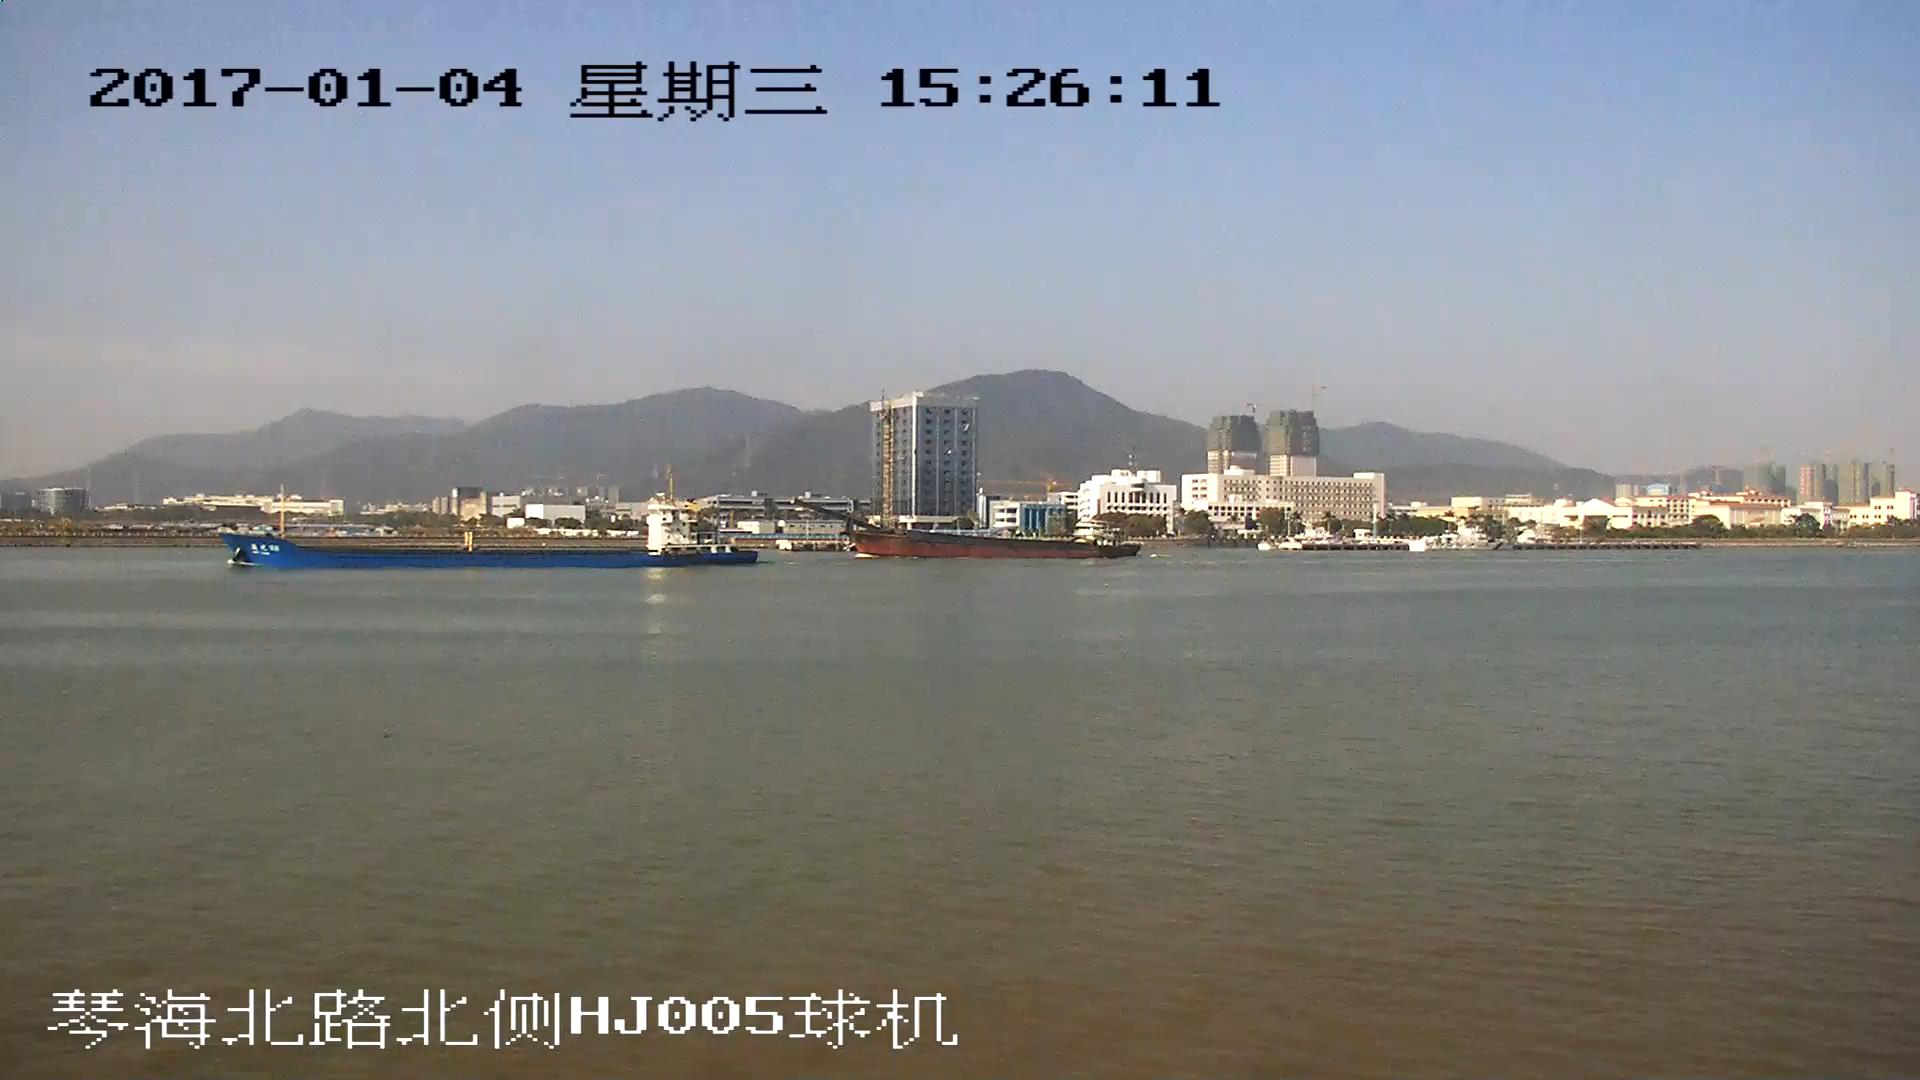bulk cargo carrier: (797, 499, 1137, 562)
general cargo ship: (217, 492, 761, 569)
